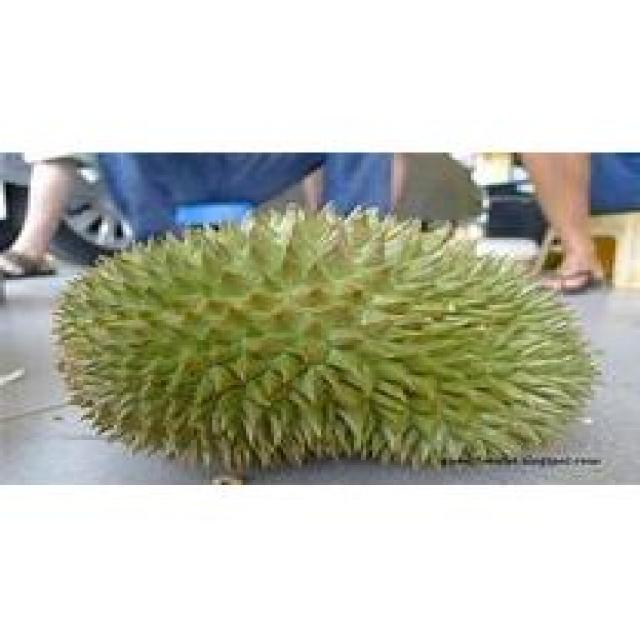Fruit: (246, 182, 465, 480)
